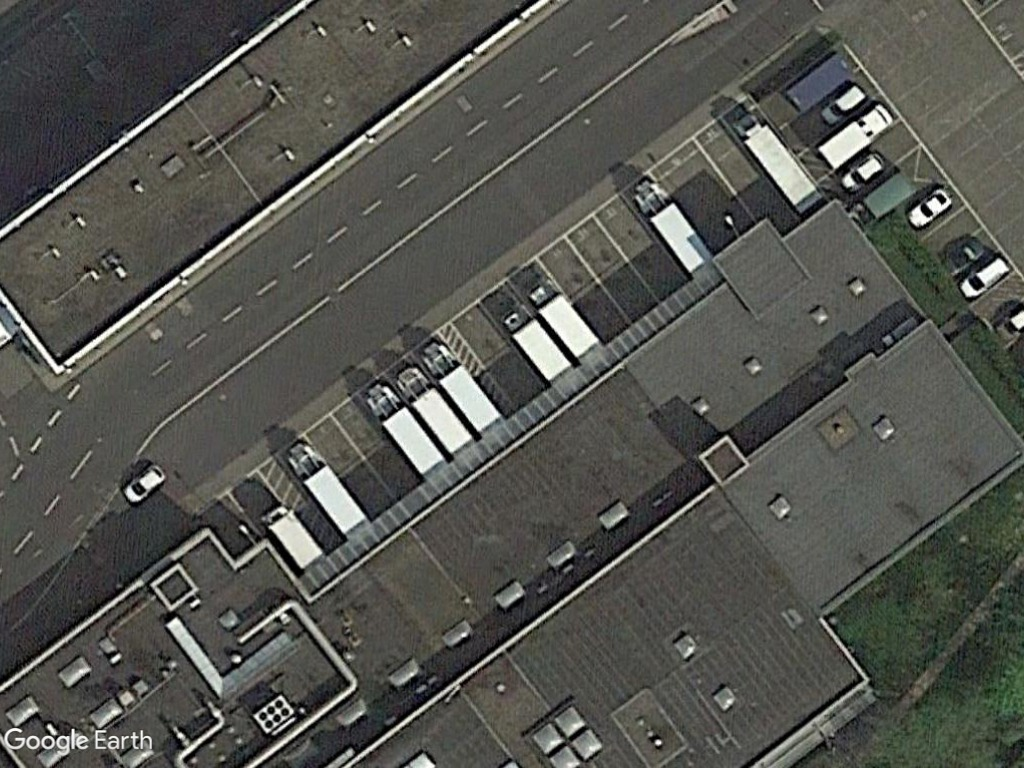car: (903, 185, 954, 232), (839, 150, 887, 194), (119, 461, 164, 506)
truck: (724, 107, 818, 215)
van: (954, 254, 1013, 300), (815, 84, 863, 127)
